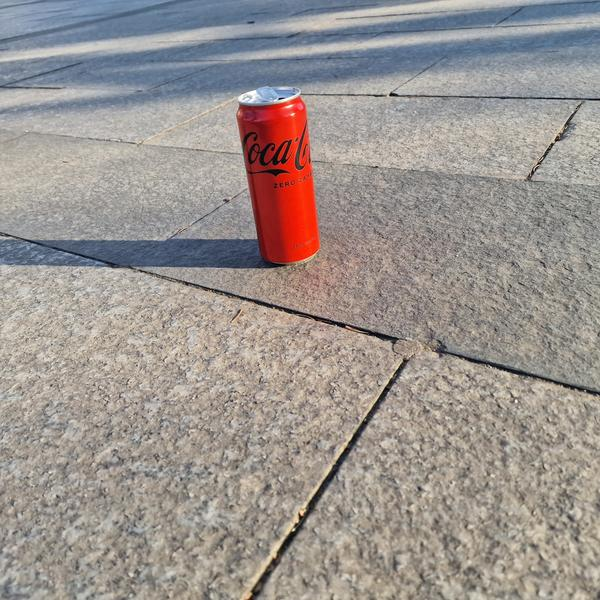can: (231, 79, 330, 272)
